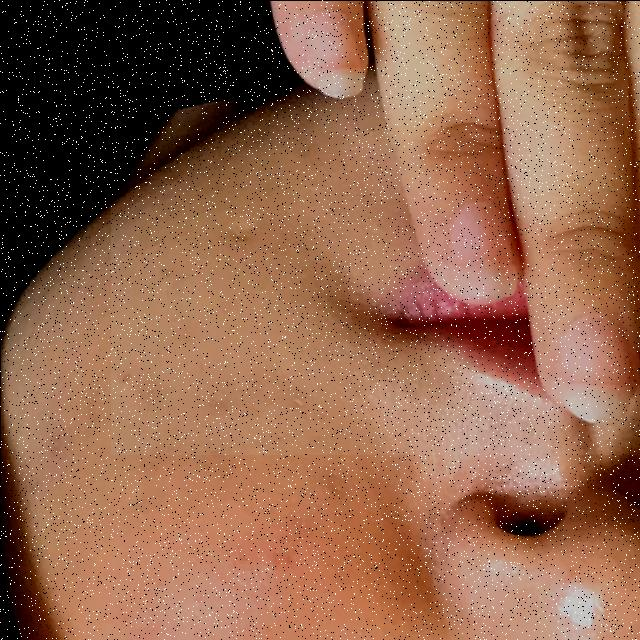ganteng: (110, 0, 640, 454)
